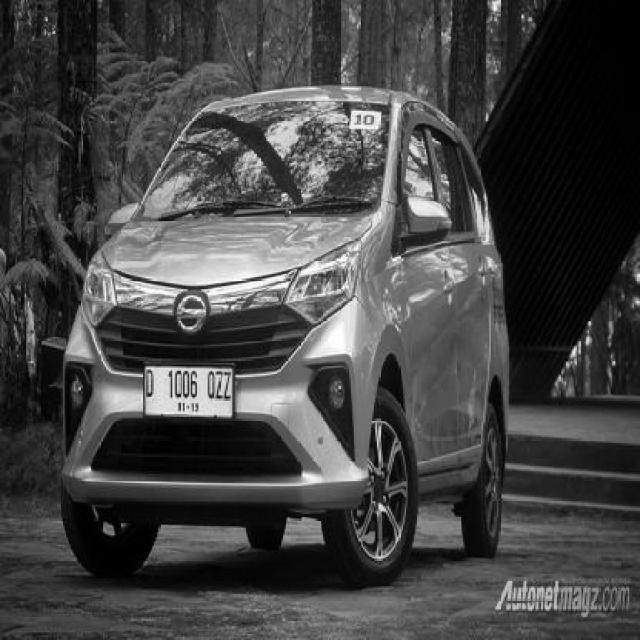0: (206, 371, 216, 398), (176, 369, 182, 400), (183, 369, 189, 400)
1: (166, 369, 174, 401)
6: (192, 370, 196, 400)
D: (146, 369, 154, 398)
Z: (222, 370, 230, 400), (215, 371, 222, 400)
